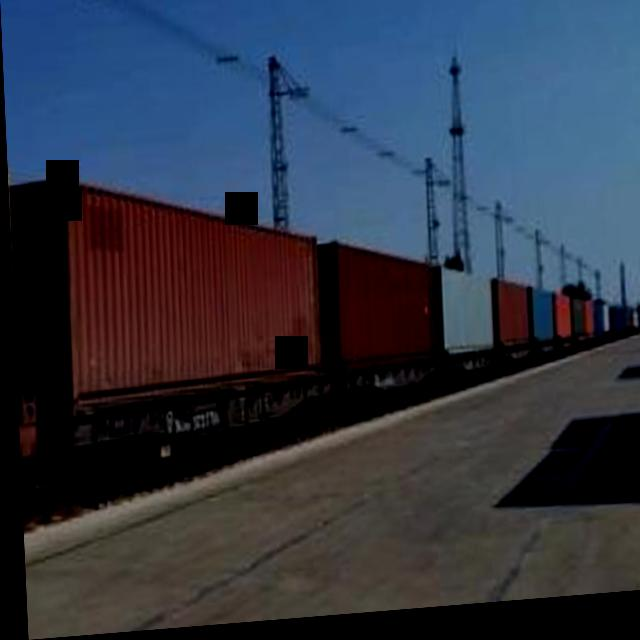container: (8, 155, 324, 424), (316, 237, 434, 368)
flatcar: (35, 371, 339, 498), (334, 356, 444, 427)
